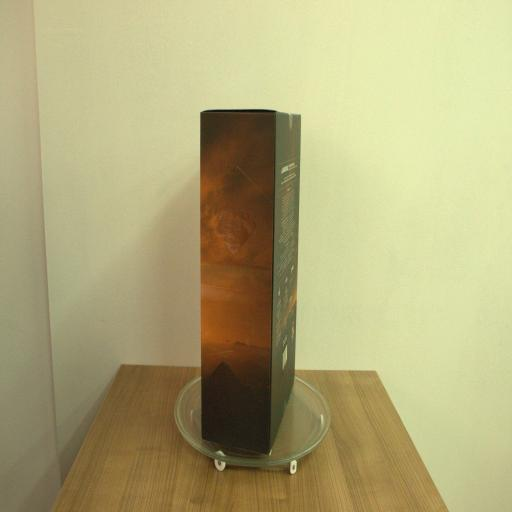superman: (200, 110, 301, 454)
